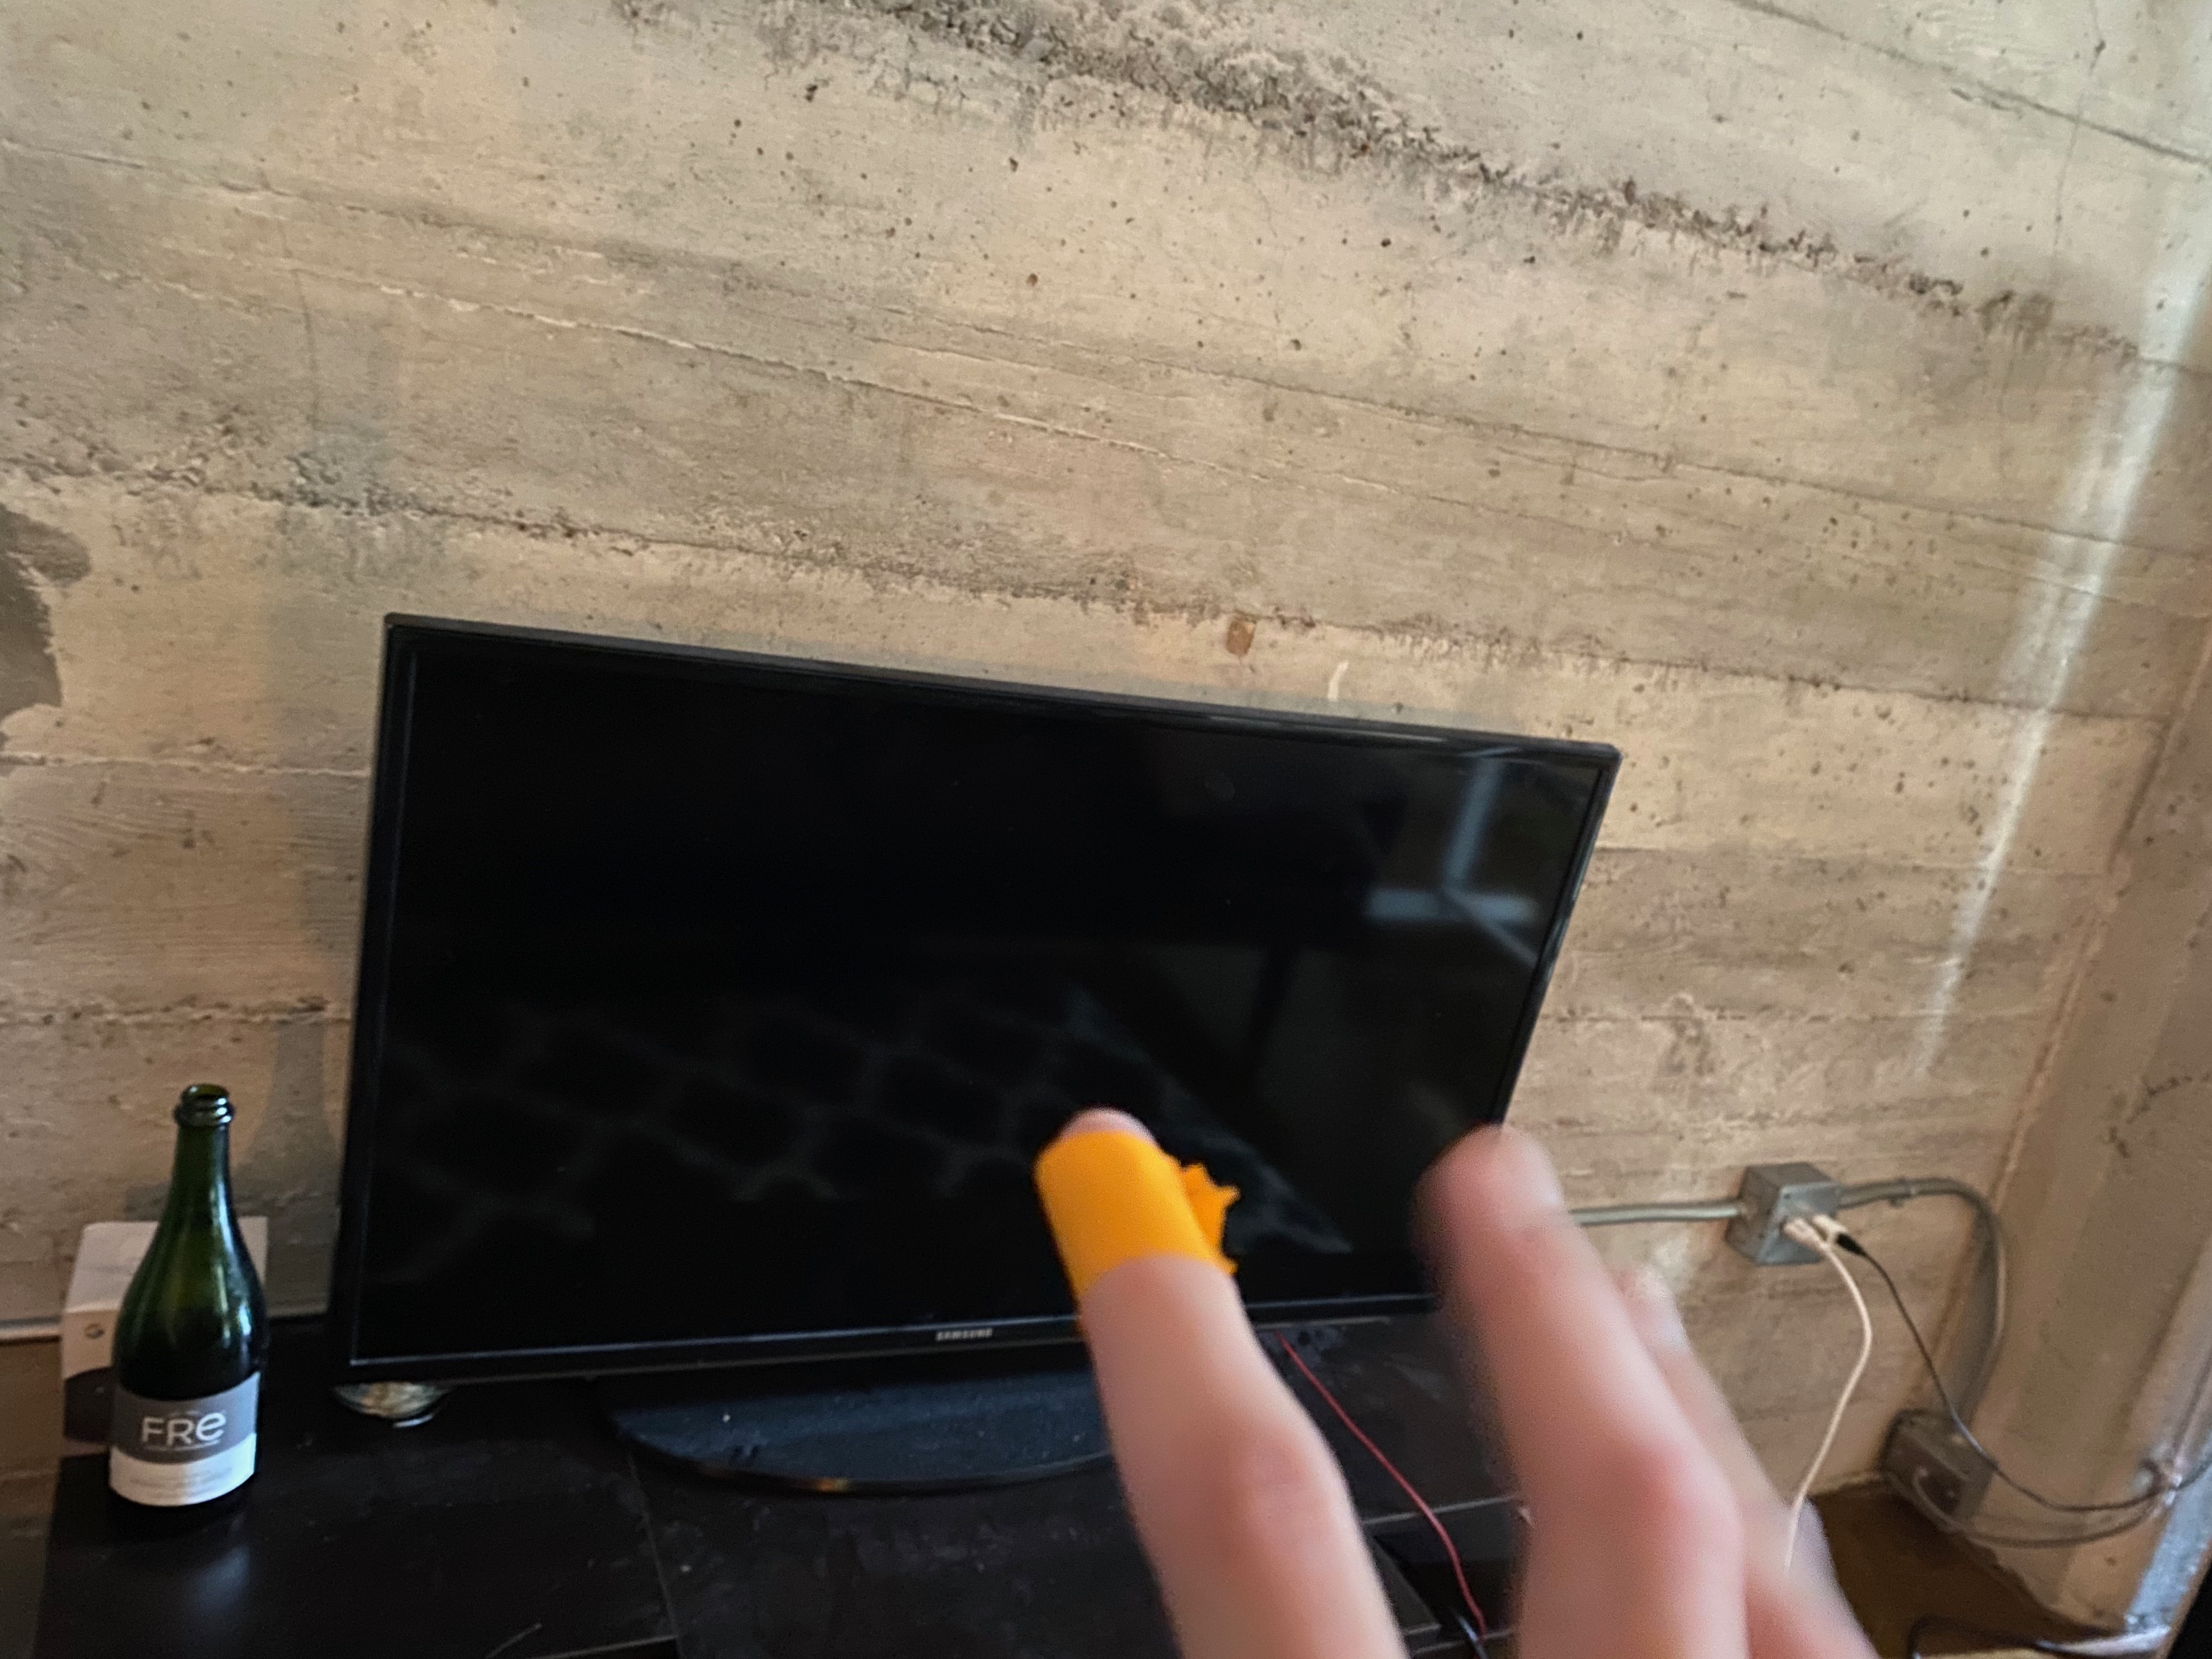fingertip: (1007, 1068, 1270, 1368)
